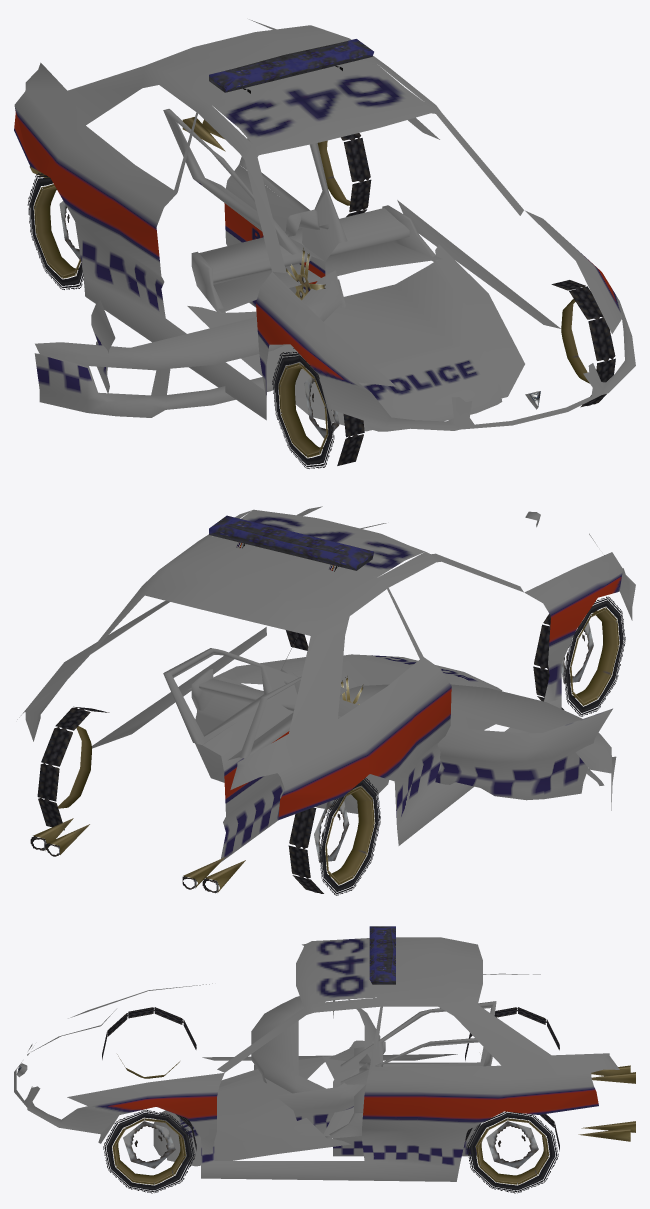
The model's file is car-CUPE_Car11.glb.
3 views of the same model, one above another, from view 1: azimuth 30°, elevation 25°; view 2: azimuth 150°, elevation 25°; view 3: azimuth 270°, elevation 25° (orthographic). The views are drawn at different scales.
Parts seen in each view (by area): view 1: CUPE_Car11; view 2: CUPE_Car11; view 3: CUPE_Car11.
Part boxes in pixels (left/top/right/bottom): CUPE_Car11: left=14, top=19, right=635, bottom=468; CUPE_Car11: left=17, top=506, right=635, bottom=895; CUPE_Car11: left=14, top=926, right=635, bottom=1193.
Size of the model in its own units: 2.67 by 1.59 by 4.32.
Materials: 16 (16 with a texture image).
